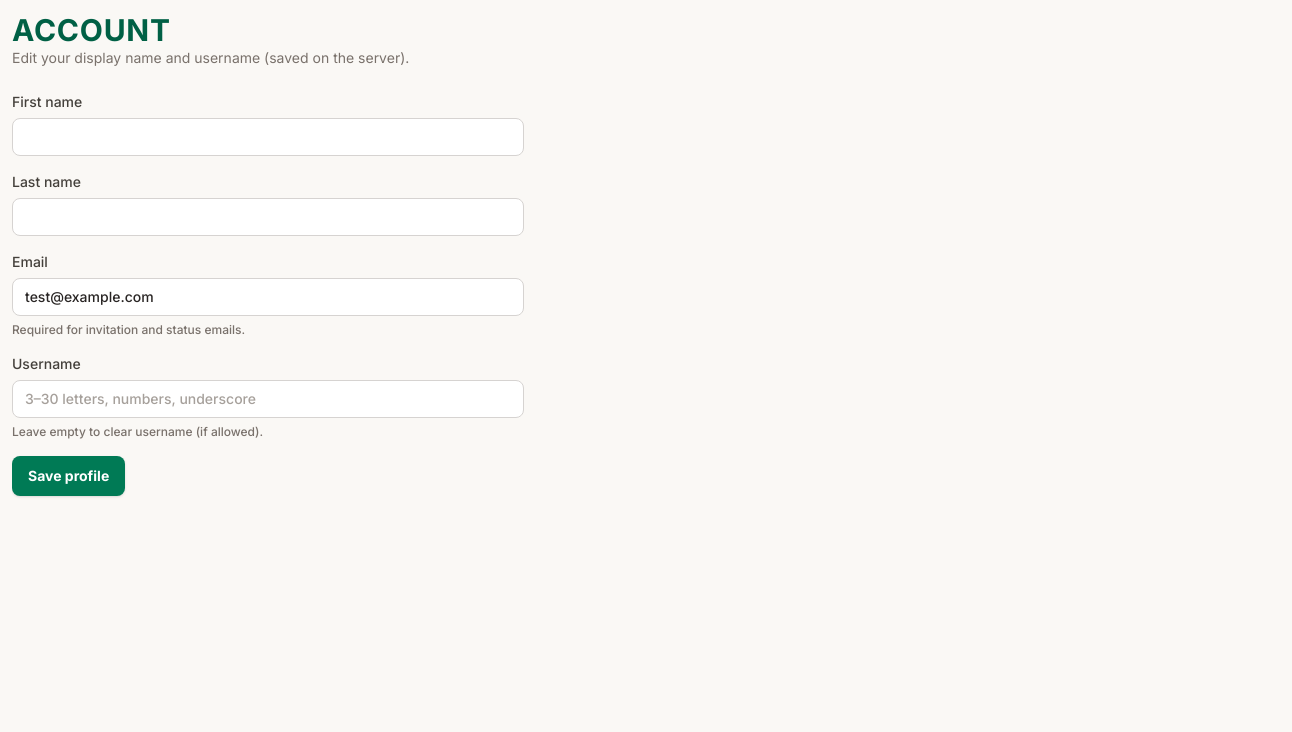
Scenario: Account › handles update network error
Click the button "Save profile".
click(69, 476)  # box [12,456,125,496]
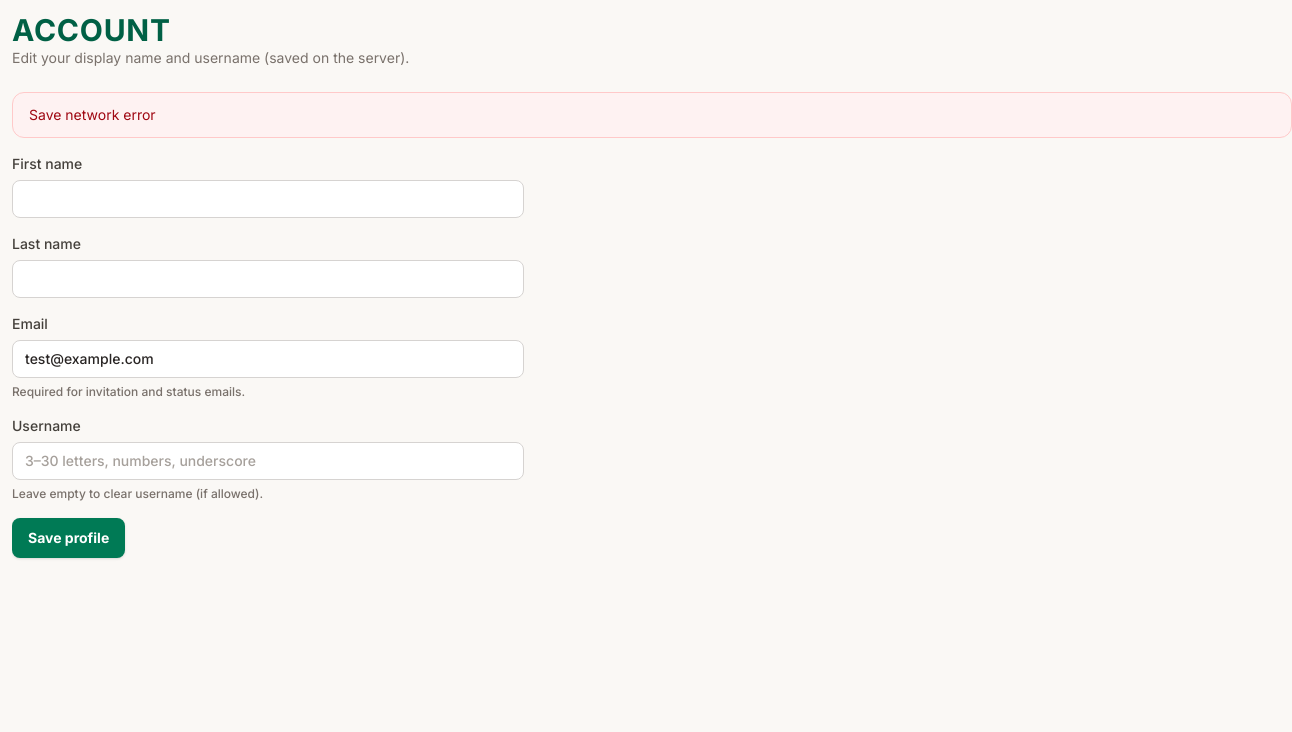
Check: the text "Save network error" is shown, box [12,92,1291,138]
